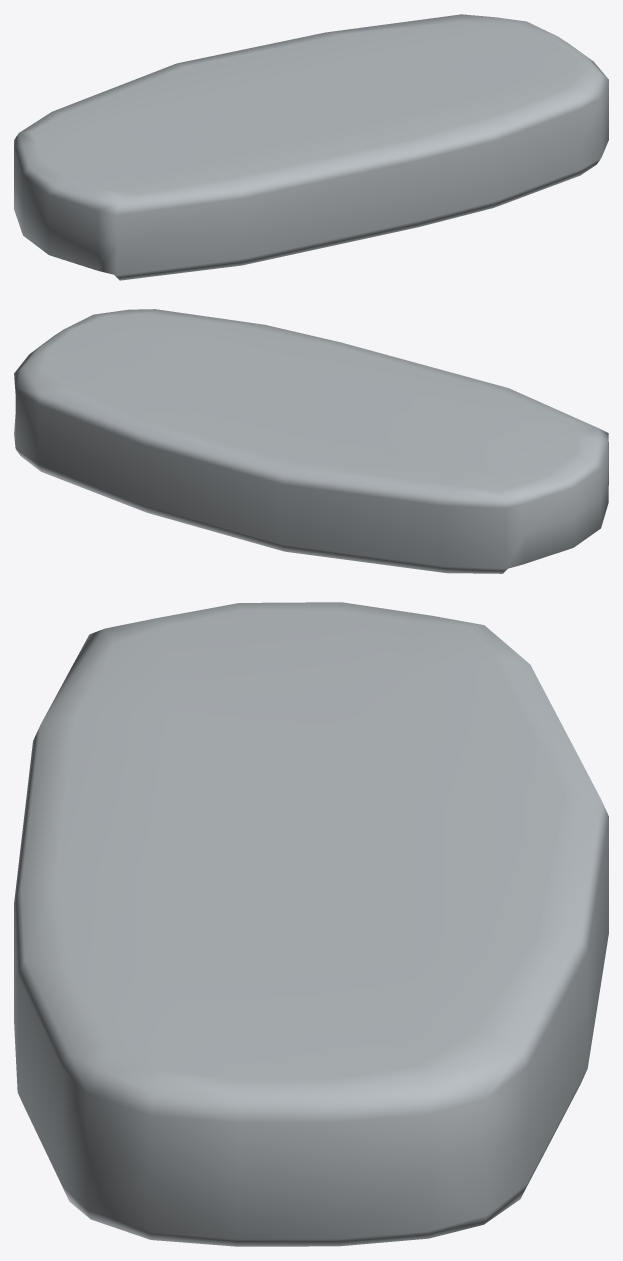
File: Stone2.fbx
3 renders of one model, top to bottom at view 1: azimuth 30°, elevation 25°; view 2: azimuth 150°, elevation 25°; view 3: azimuth 270°, elevation 25°, orthographic. The views are drawn at different scales.
Visible parts, largest first — view 1: Stone1; view 2: Stone1; view 3: Stone1.
Part boxes in pixels (x1=…): Stone1: x1=14, y1=14, x2=608, y2=280; Stone1: x1=14, y1=309, x2=608, y2=573; Stone1: x1=14, y1=602, x2=608, y2=1246.
Size of the model in its own units: 296 by 43.44 by 144.
